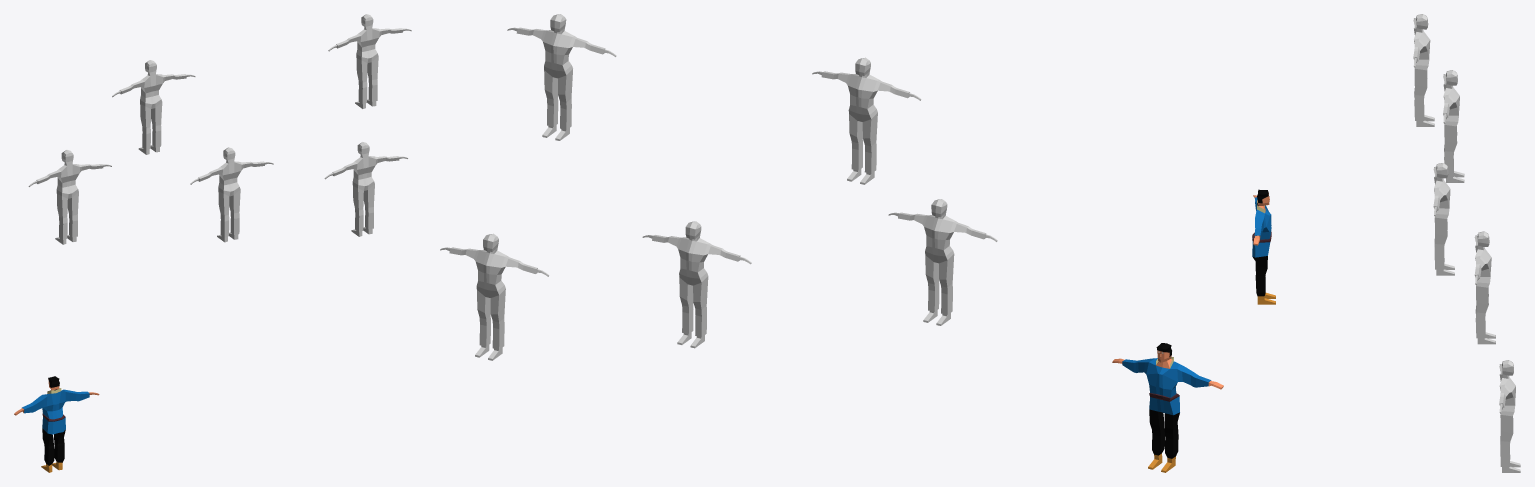
The model's file is Player.fbx.
The picture shows the model from 3 angles, left to right: view 1: azimuth 30°, elevation 25°; view 2: azimuth 150°, elevation 25°; view 3: azimuth 270°, elevation 25°; orthographic projection. The views are drawn at different scales.
Visible parts, largest first — view 1: Player, Monster.004, Monster.001, Monster.005, Monster.003, Monster.002; view 2: Player, Monster.001, Monster.003, Monster.002, Monster.004, Monster.005; view 3: Player, Monster.005, Monster.002, Monster.004, Monster.001, Monster.003.
Boxes of the visible parts, x1,y1,x2,y2 form: Player: [14, 376, 99, 472]; Monster.004: [328, 14, 411, 108]; Monster.001: [190, 147, 273, 242]; Monster.005: [112, 60, 195, 154]; Monster.003: [28, 150, 111, 244]; Monster.002: [324, 142, 407, 236]; Player: [1112, 343, 1223, 472]; Monster.001: [642, 221, 751, 348]; Monster.003: [888, 199, 997, 325]; Monster.002: [440, 233, 548, 360]; Monster.004: [507, 14, 616, 140]; Monster.005: [812, 57, 921, 184]; Player: [1252, 189, 1275, 304]; Monster.005: [1413, 14, 1434, 126]; Monster.002: [1499, 360, 1520, 472]; Monster.004: [1433, 163, 1454, 275]; Monster.001: [1474, 231, 1495, 344]; Monster.003: [1443, 70, 1464, 182].
Size of the model in its own units: 5582 by 3450 by 2194.
